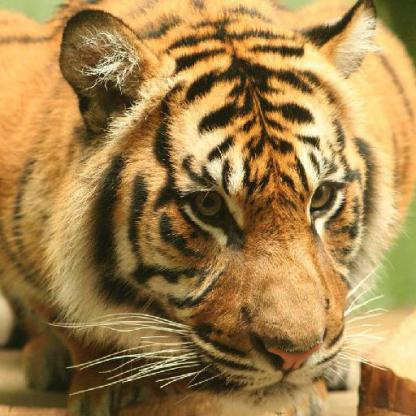tiger: (62, 20, 386, 373)
